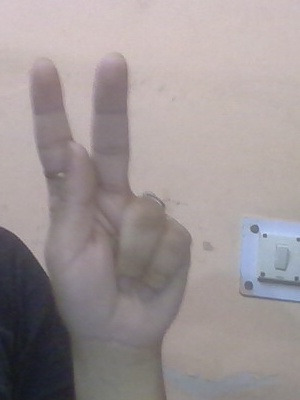K: (22, 45, 286, 309)
